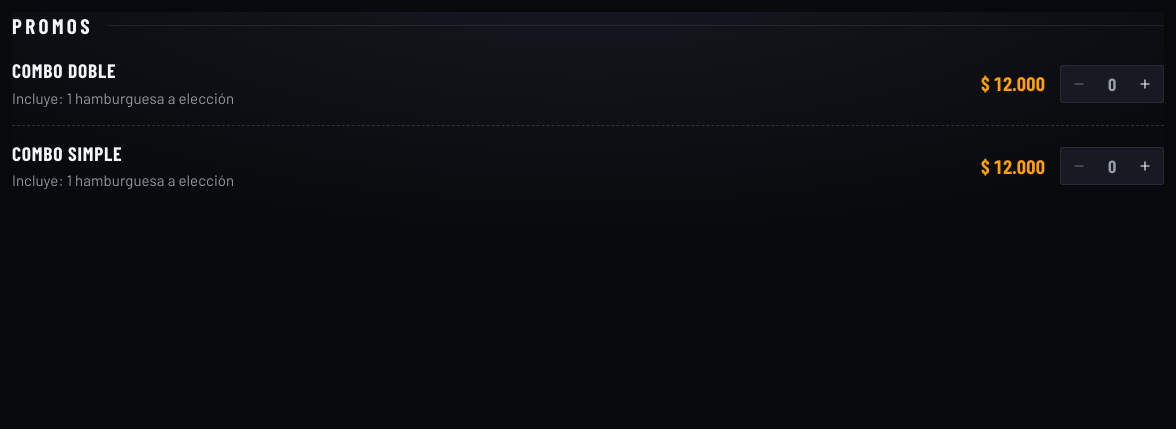
it: ComboPicker unit cards placement › renders each unit card under its own combo row, not another's
Click the button named "Agregar Combo Doble" at (1145, 84), box [1127,66,1163,102]
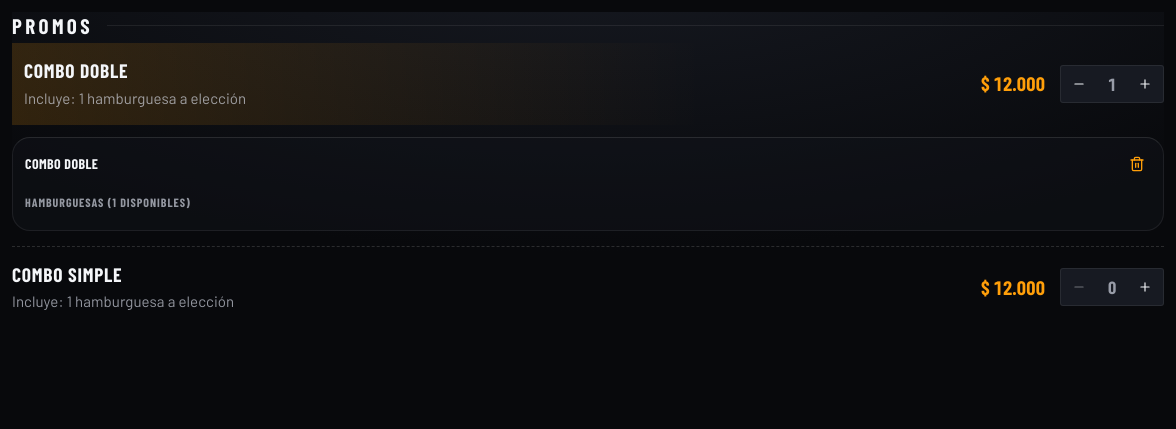
Click the button named "Agregar Combo Doble" at (1145, 84), box [1127,66,1163,102]
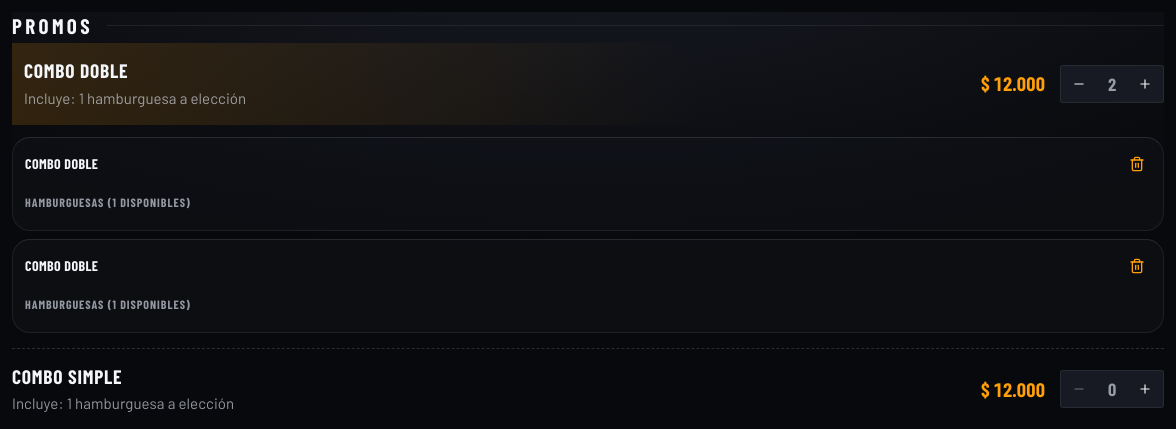
Now the number of buttons named "Eliminar combo" is 2, box [1123,150,1151,178]; [1123,252,1151,280]
